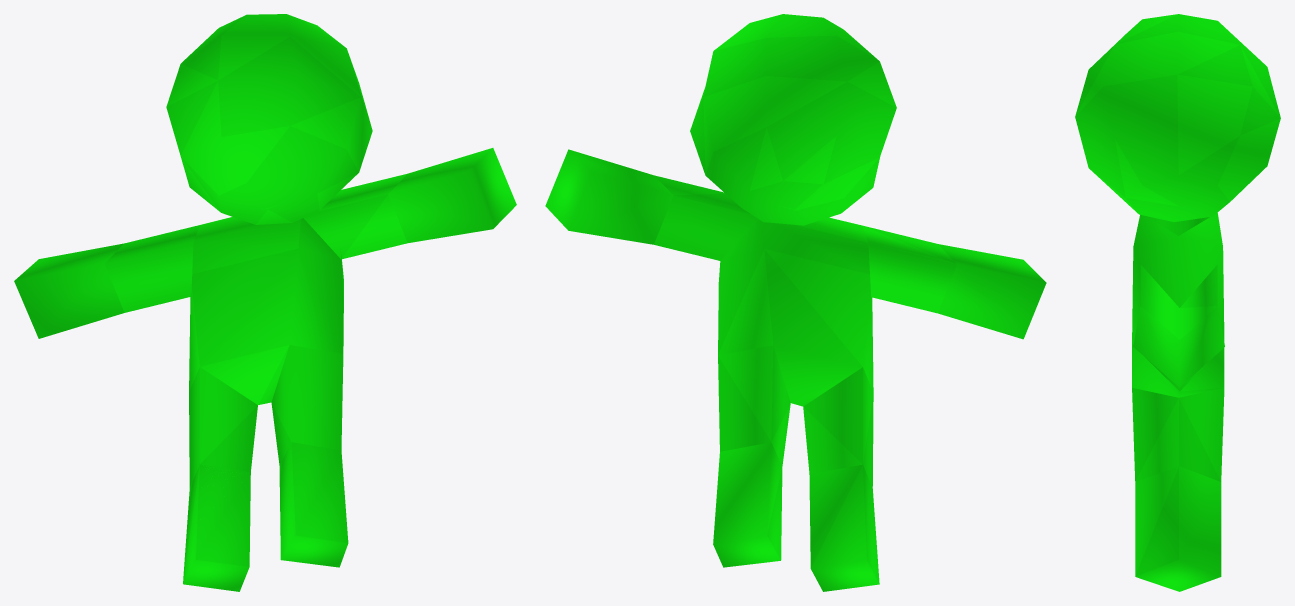
The model's file is ps2_save-icons_roommania203.glb.
The picture shows the model from 3 angles, left to right: view 1: azimuth 30°, elevation 25°; view 2: azimuth 150°, elevation 25°; view 3: azimuth 270°, elevation 25°; orthographic projection.
Parts seen in each view (by area): view 1: static.ico; view 2: static.ico; view 3: static.ico.
Boxes of the visible parts, x1=… form: static.ico: x1=14, y1=14, x2=516, y2=591; static.ico: x1=545, y1=14, x2=1046, y2=591; static.ico: x1=1075, y1=14, x2=1280, y2=591.
Size of the model in its own units: 3.95 by 4.49 by 1.58.
Materials: 1 (1 with a texture image).
